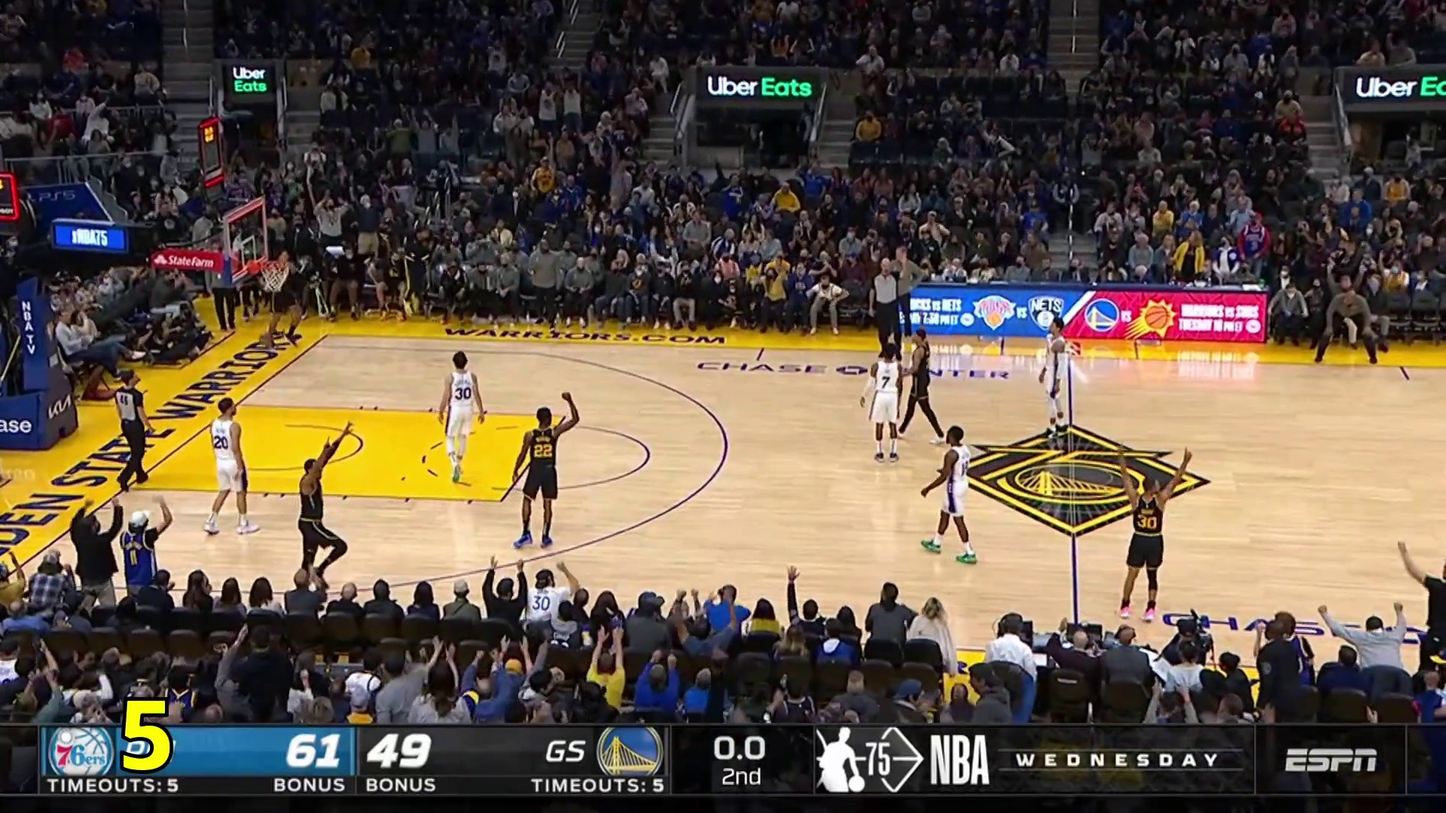basket_hoop: (196, 180, 310, 321)
